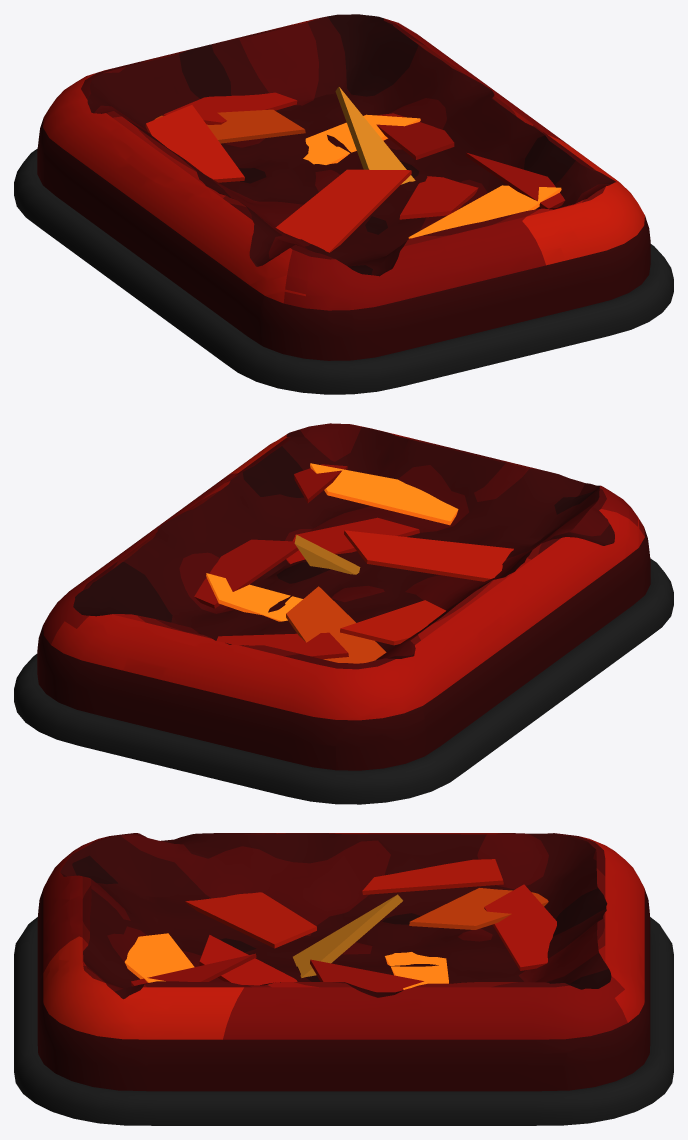
Rendered from redgem_panel_wreck.glb.
3 views of the same model, one above another, from view 1: azimuth 30°, elevation 25°; view 2: azimuth 150°, elevation 25°; view 3: azimuth 270°, elevation 25° (orthographic). The views are drawn at different scales.
Parts seen in each view (by area): view 1: gem, fracture, bezel, shard5, shard2, shard7, shard0, shard6, spike, shard3, shard1, shard4 (+1 smaller); view 2: gem, fracture, bezel, shard5, shard7, shard0, shard4, shard2, shard3, shard6, shard1, spike (+1 smaller); view 3: gem, fracture, bezel, shard5, shard1, shard2, shard0, spike, shard7, shard6, shard4, shard3 (+1 smaller).
Part boxes in pixels (box(x1,y1,x2,y2)): gem: box(37, 18, 650, 360); fracture: box(87, 14, 615, 276); bezel: box(14, 148, 673, 394); shard5: box(275, 169, 411, 252); shard2: box(145, 105, 244, 182); shard7: box(408, 185, 561, 238); shard0: box(154, 109, 305, 143); shard6: box(399, 176, 478, 219); spike: box(335, 87, 415, 184); shard3: box(303, 114, 420, 164); shard1: box(163, 92, 297, 124); shard4: box(376, 113, 454, 159); gem: box(37, 423, 650, 770); fracture: box(73, 424, 614, 660); bezel: box(14, 558, 673, 804); shard5: box(344, 530, 513, 581); shard7: box(310, 463, 458, 525); shard0: box(286, 586, 386, 663); shard4: box(194, 539, 298, 608); shard2: box(340, 600, 445, 645); shard3: box(206, 573, 302, 621); shard6: box(286, 517, 419, 564); shard1: box(216, 632, 348, 659); spike: box(294, 534, 360, 574); gem: box(37, 833, 650, 1091); fracture: box(60, 833, 611, 999); bezel: box(14, 917, 673, 1125); shard5: box(185, 892, 316, 948); shard1: box(484, 884, 556, 970); shard2: box(362, 859, 503, 894); shard0: box(409, 888, 548, 929); spike: box(293, 894, 402, 977); shard7: box(124, 933, 194, 982); shard6: box(199, 935, 297, 985); shard4: box(310, 959, 423, 992); shard3: box(385, 952, 448, 989).
Bounding box in the file's own units: 15.9 × 4.75 × 20.9.
